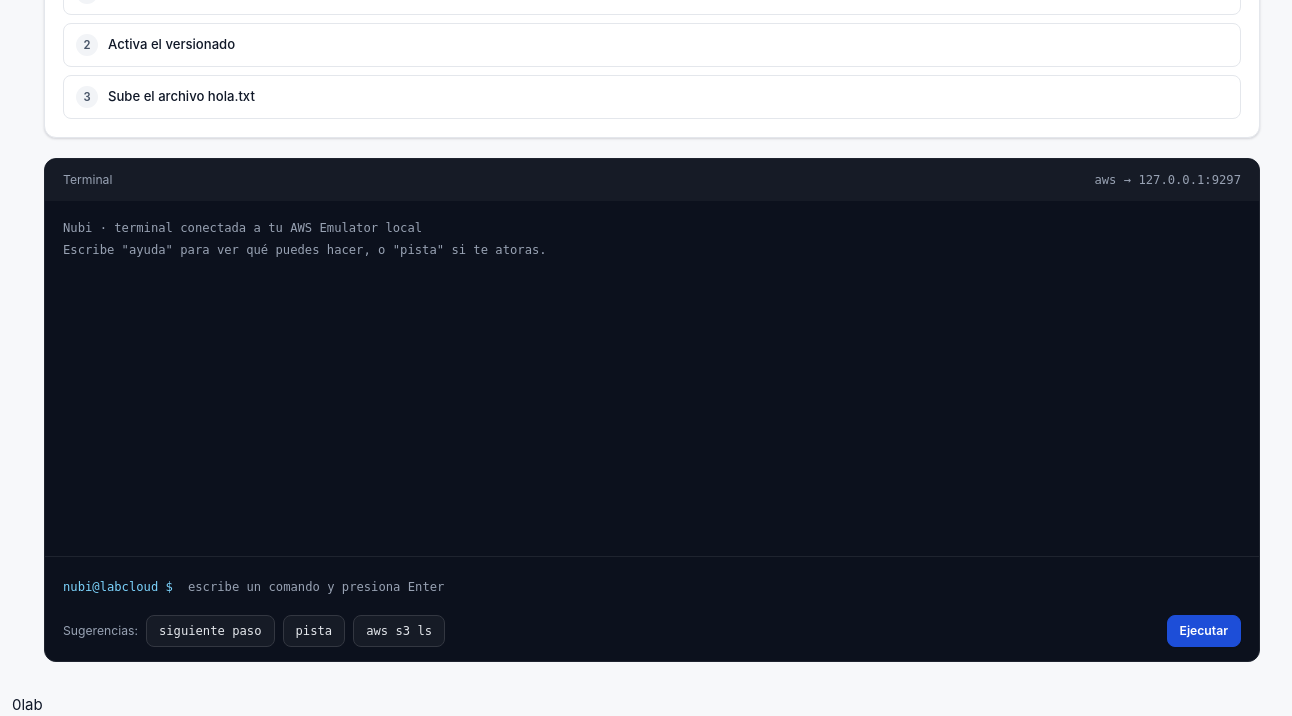
↑ asks for an older command and puts it at the prompt
This screenshot has width=1292, height=716.
(page scrolled)
Click the field labelled "comando" at point(711, 587), box [181,571,1241,603]
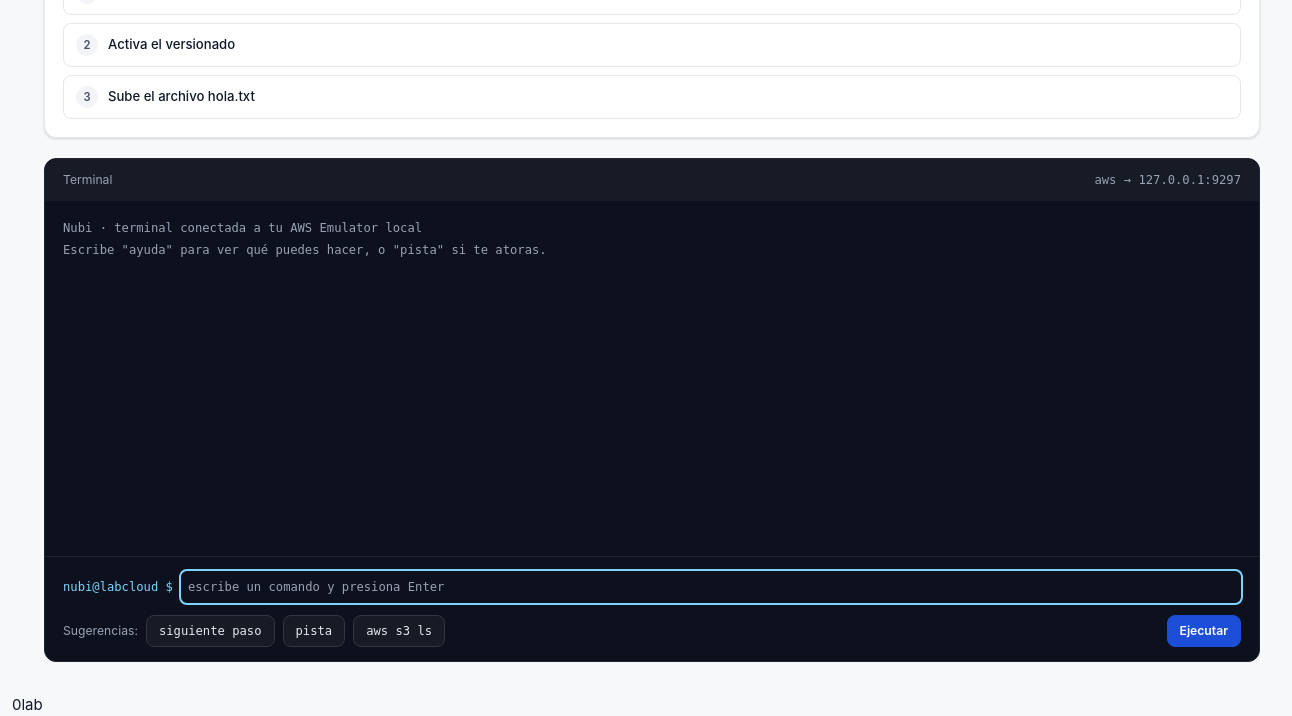
Press Arrowup
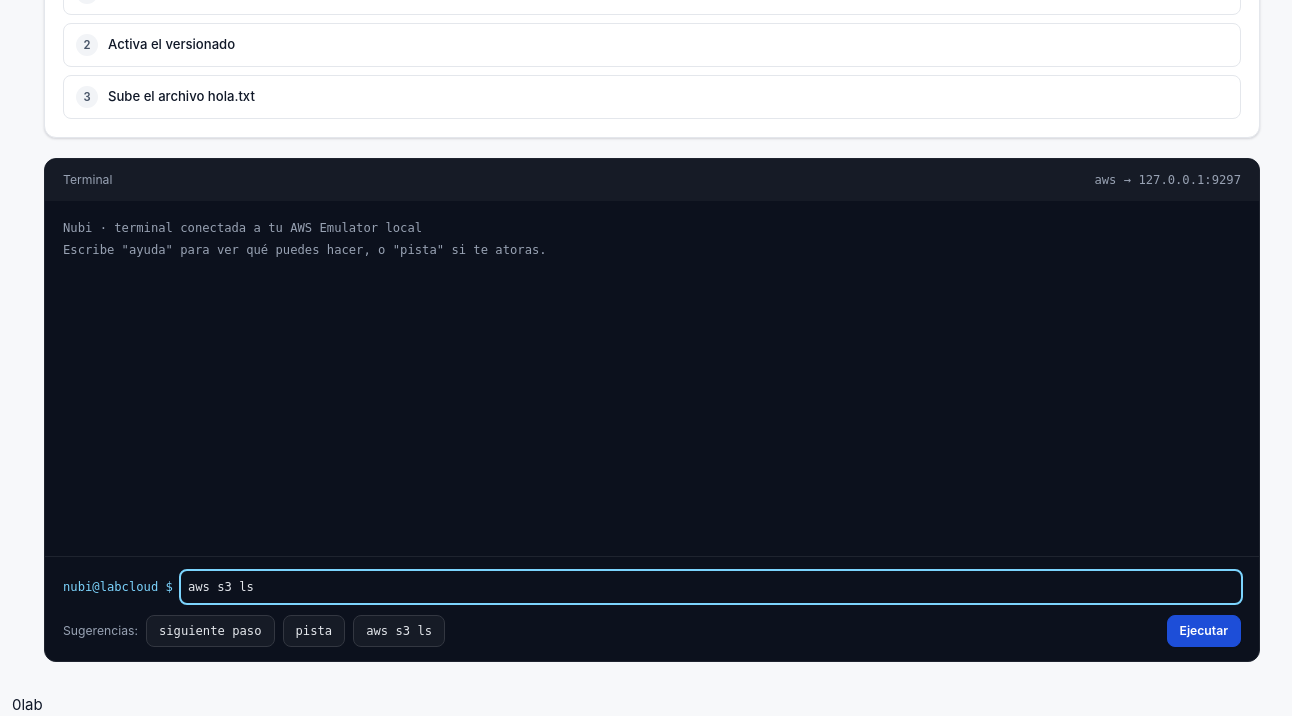
Expected: the field named "comando" holds "aws s3 ls", [181,571,1241,603]
